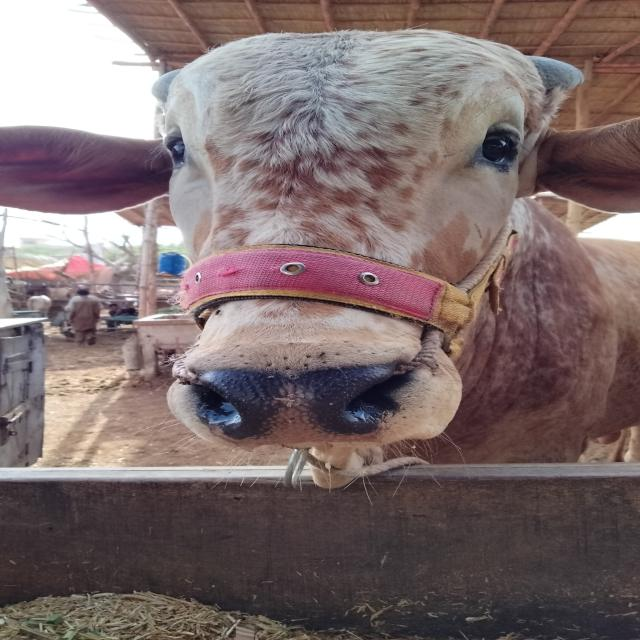muzzles: (181, 355, 415, 455)
